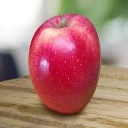apple: (28, 14, 101, 115)
